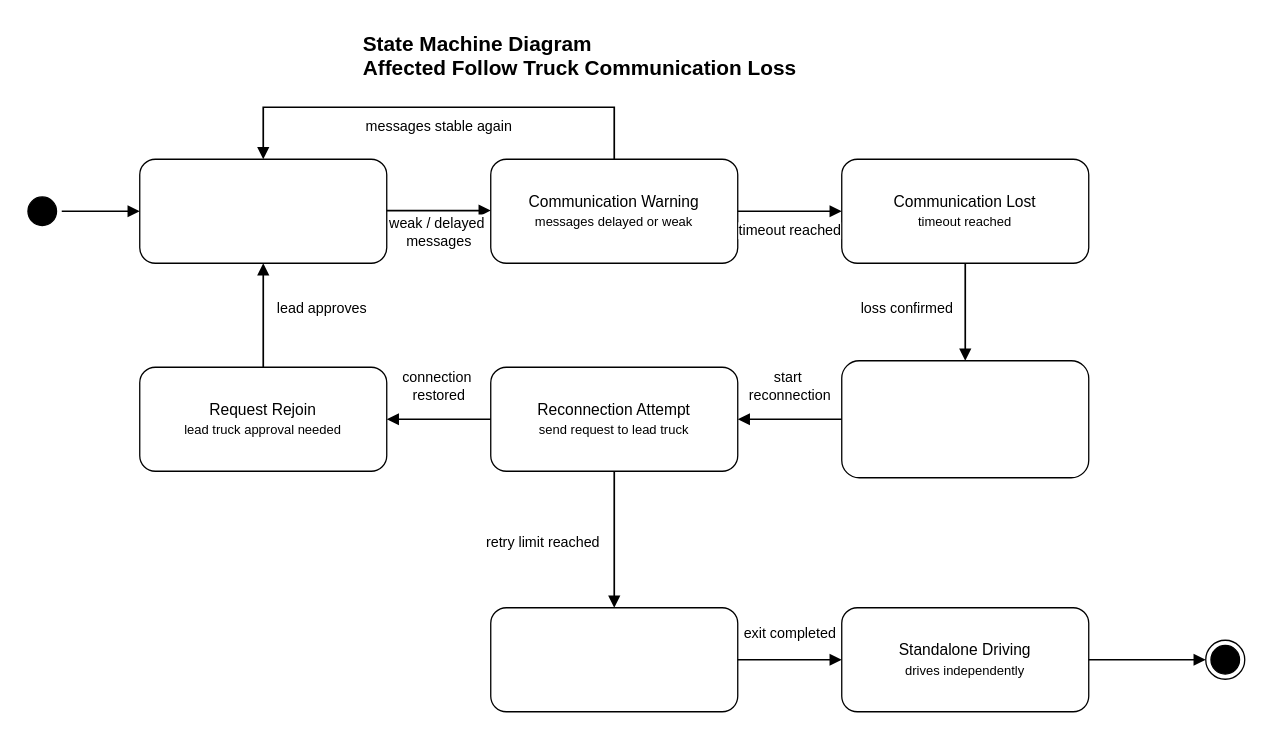
Some shapes in this 1268 by 735 pixel diagram are drawn without their labels. Each missing label, with the centre of its shape:
Leave Platoon safe exit maneuver: the point at 613,659
Normal Platoon Driving receives lead truck data: the point at 262,210
Safe Mode increase distance prepare independent driving: the point at 964,418
